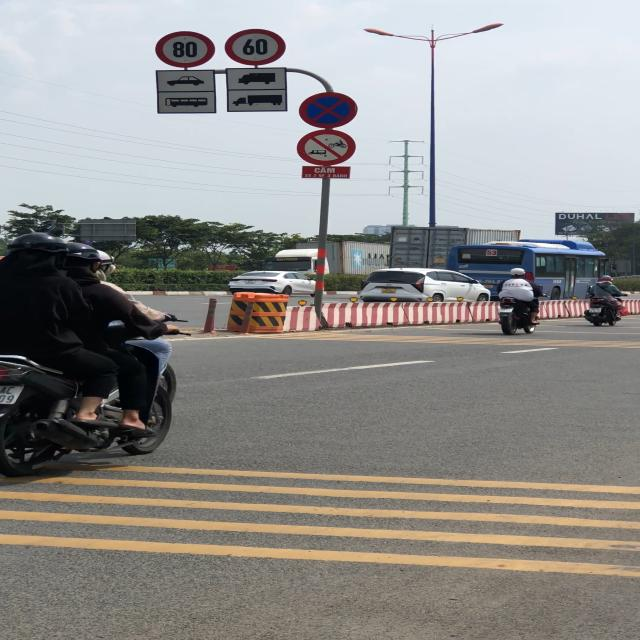Bien bao cam dung xe va do xe: (297, 91, 359, 130)
Bien bao toc do toi da cho phep: (222, 28, 288, 65), (155, 31, 218, 68)
